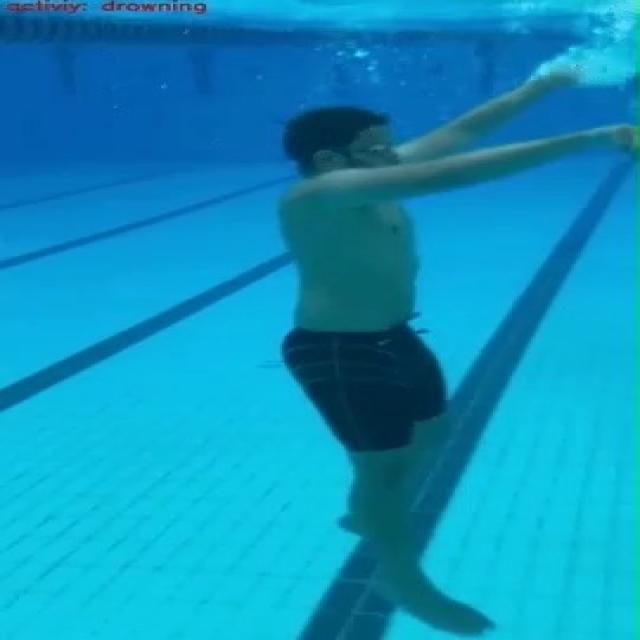Drowning: (276, 53, 640, 639)
